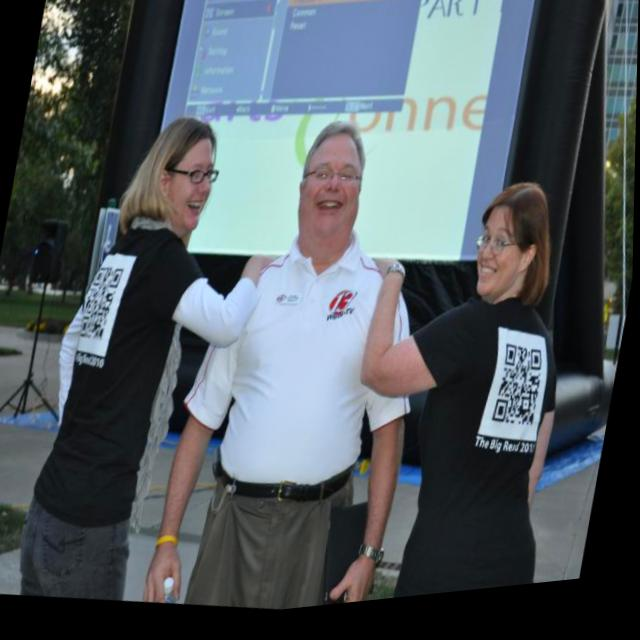qrcode: (495, 353, 549, 441), (82, 268, 127, 346)
